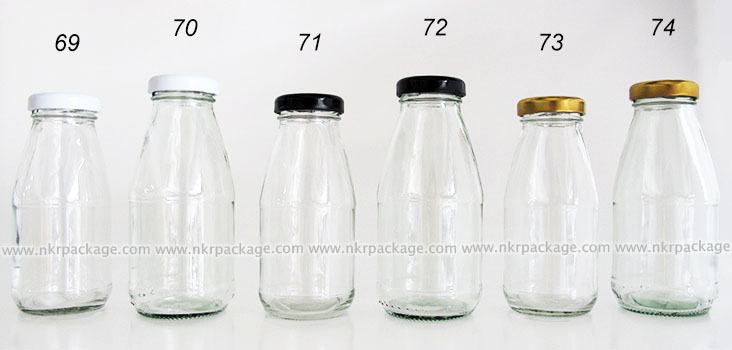glass_bottle: (371, 72, 488, 324), (125, 70, 240, 326), (611, 76, 722, 323), (251, 89, 361, 329), (8, 87, 115, 322), (498, 92, 603, 322)
